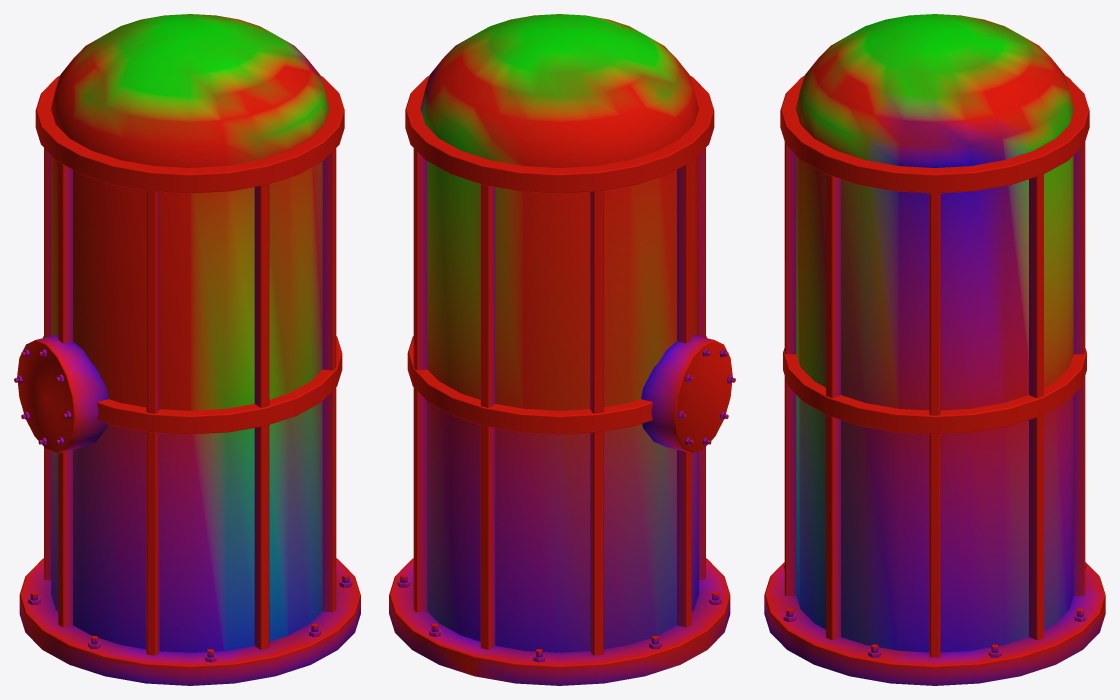
File: LargeMetalPropB.fbx
The picture shows the model from 3 angles, left to right: view 1: azimuth 30°, elevation 25°; view 2: azimuth 150°, elevation 25°; view 3: azimuth 270°, elevation 25°; orthographic projection.
Parts seen in each view (by area): view 1: T4.000, T4.001; view 2: T4.000, T4.001; view 3: T4.000, T4.001.
Boxes of the visible parts, x1,y1,x2,y2 form: T4.000: [51, 14, 329, 652]; T4.001: [14, 75, 360, 685]; T4.000: [420, 14, 698, 652]; T4.001: [389, 75, 735, 685]; T4.000: [795, 14, 1074, 652]; T4.001: [764, 75, 1105, 685].
Size of the model in its own units: 206 by 383 by 204.
